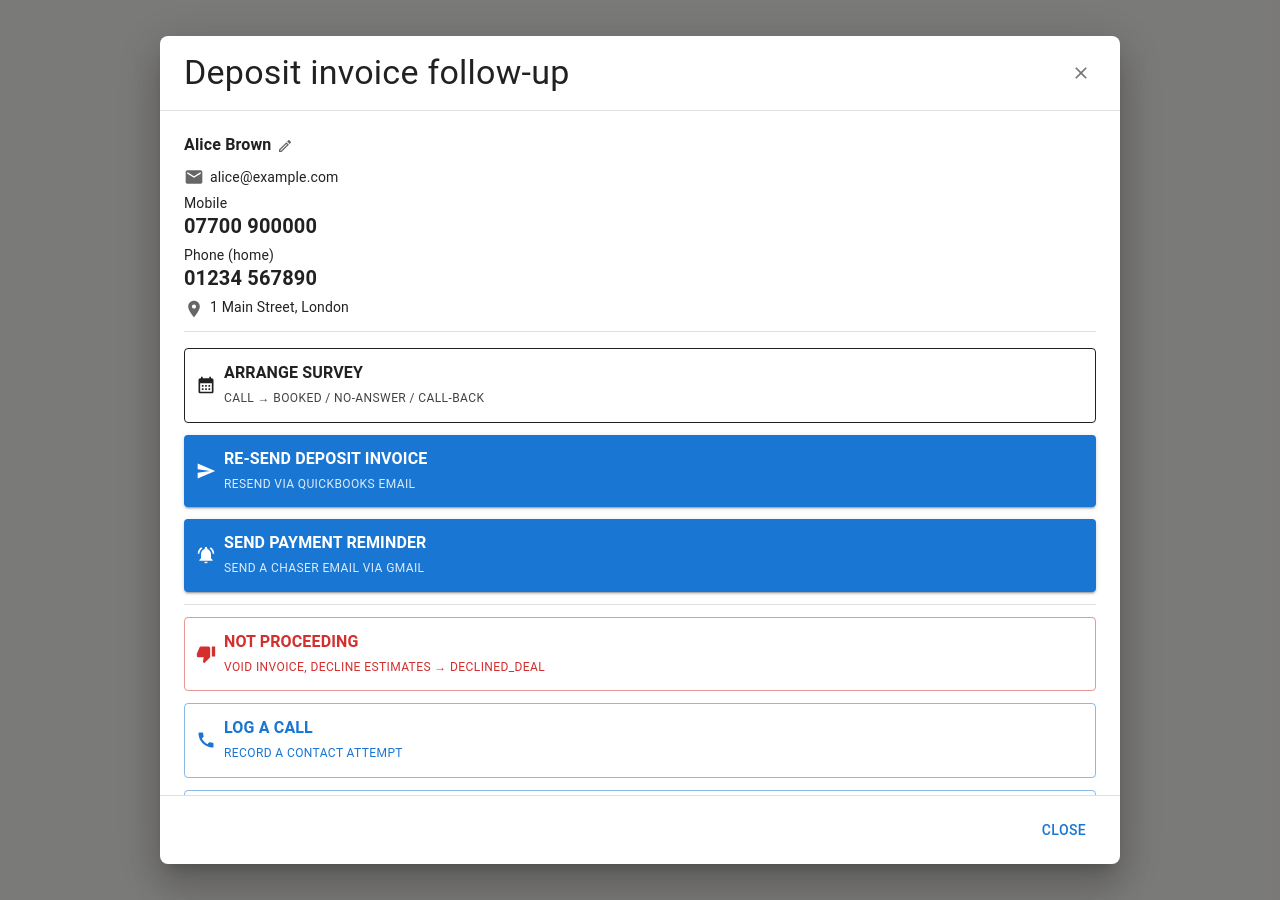
Test: DepositInvoiceModal — discard guard: reminder body triggers dialog › shows the discard dialog when the reminder step has a non-empty body
The width and height of the screenshot is (1280, 900).
Click the text "Send payment reminder" at (325, 543), box [224,531,426,555]
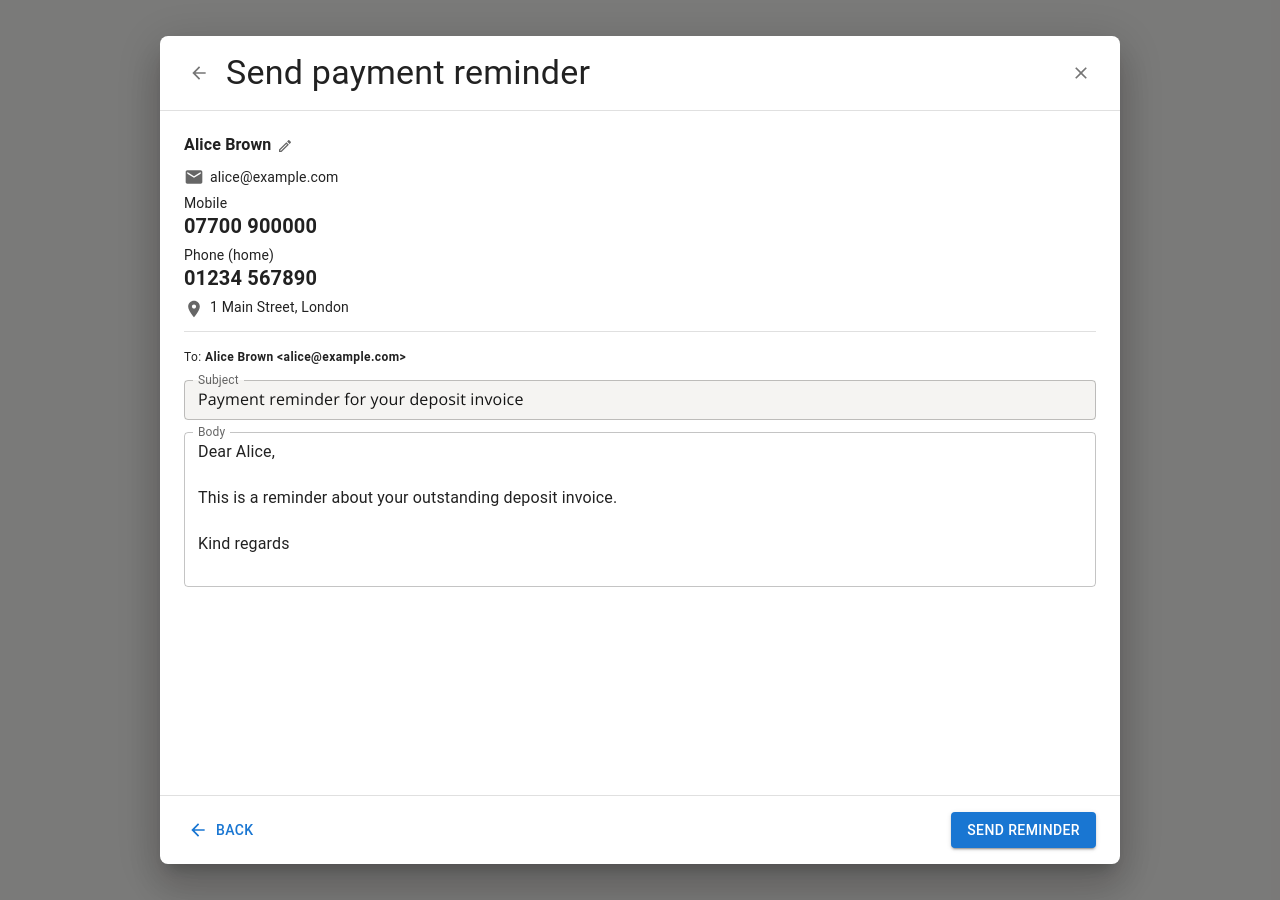
Now the text box labelled "Body" is not empty, box [198,440,1082,578]
Click the button named "Close" at (1081, 73), box [1066,58,1096,88]
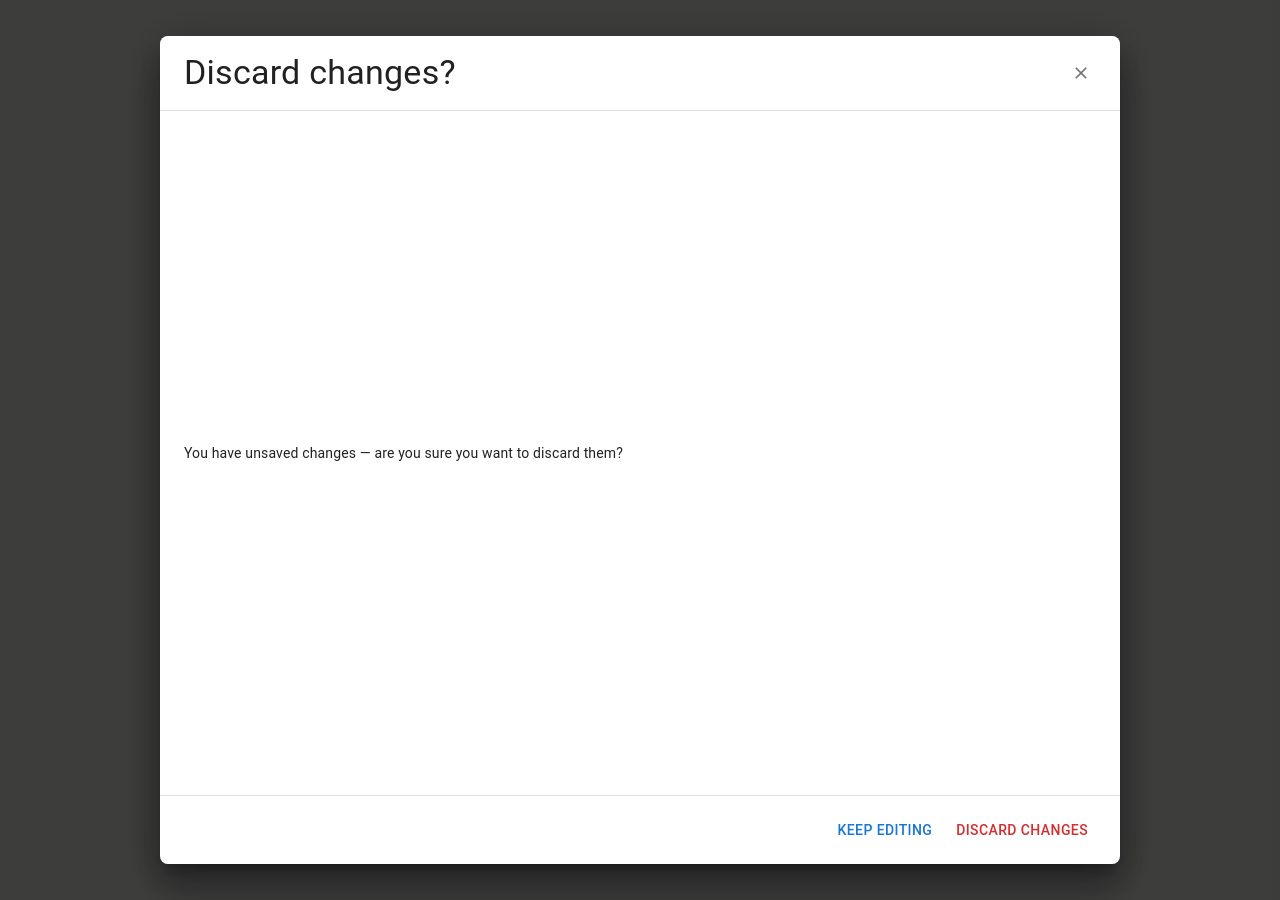
Now the dialog "Discard changes?" is shown
